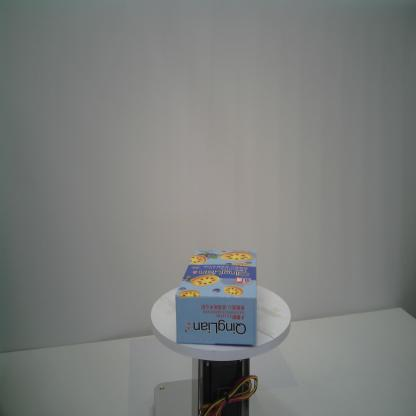Dessert: (175, 249, 259, 348)
